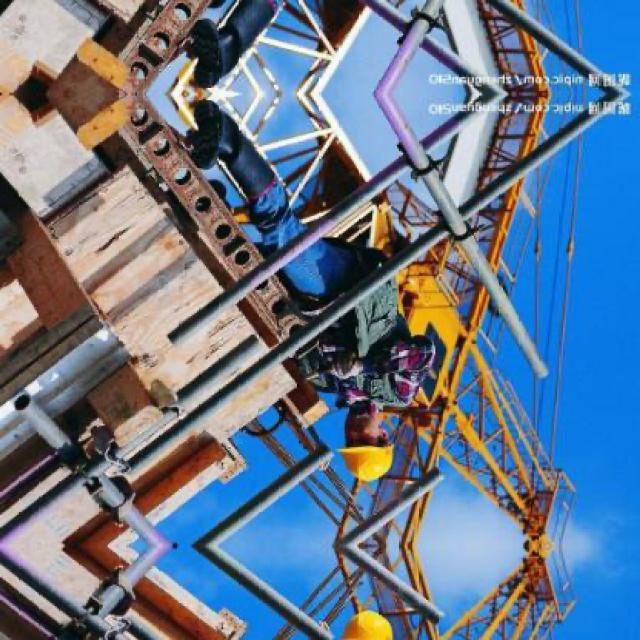sin casco: (290, 360, 457, 494)
